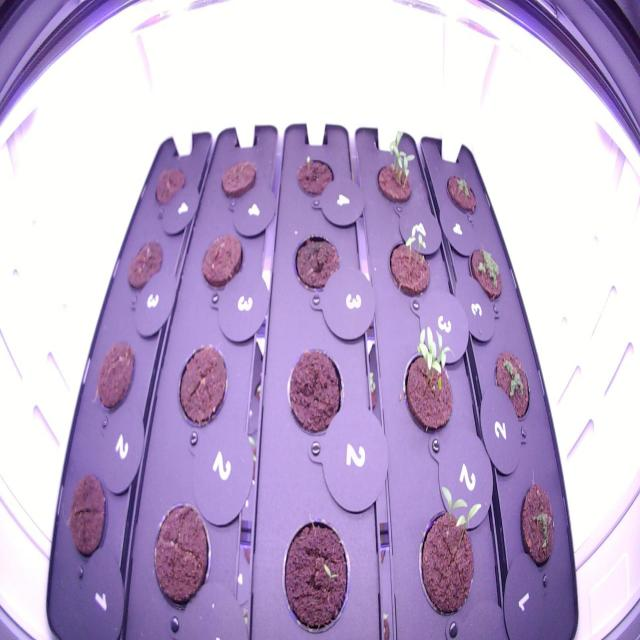germination: (407, 470, 485, 632), (276, 509, 354, 636), (396, 314, 456, 446), (380, 212, 440, 314), (514, 470, 562, 581), (369, 124, 422, 217), (489, 342, 538, 435), (463, 238, 509, 311), (442, 166, 479, 226)
pod: (146, 494, 218, 621), (281, 340, 349, 448), (60, 463, 114, 577), (172, 335, 233, 434), (89, 329, 140, 421), (288, 223, 344, 304), (195, 227, 248, 296), (120, 231, 168, 306), (289, 148, 338, 205), (213, 150, 261, 208), (147, 154, 191, 216)
